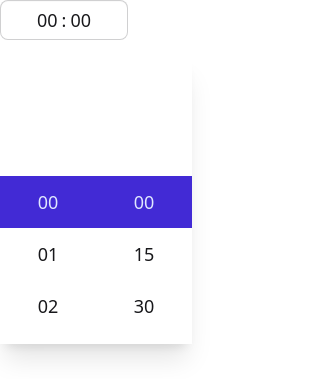
Scenario: TimePicker › time selection › closes picker when closeOnMinute is true
Expected: the 1st element with class "overflow-y-scroll" is shown, [0,56,96,344]
Click a minute option
Click the text "30". click: (144, 306)
box: [134,292,154,320]
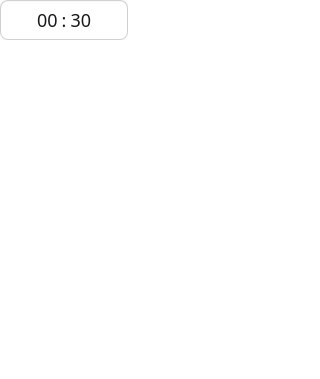
Expected: the element with class "absolute" is gone
